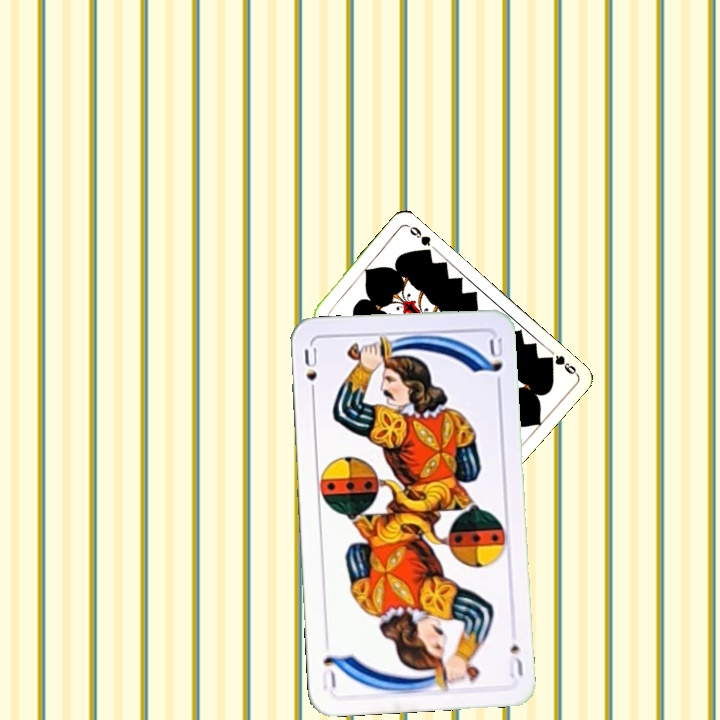G9: (541, 351, 580, 377)
SU: (300, 343, 320, 401), (504, 640, 526, 680)
